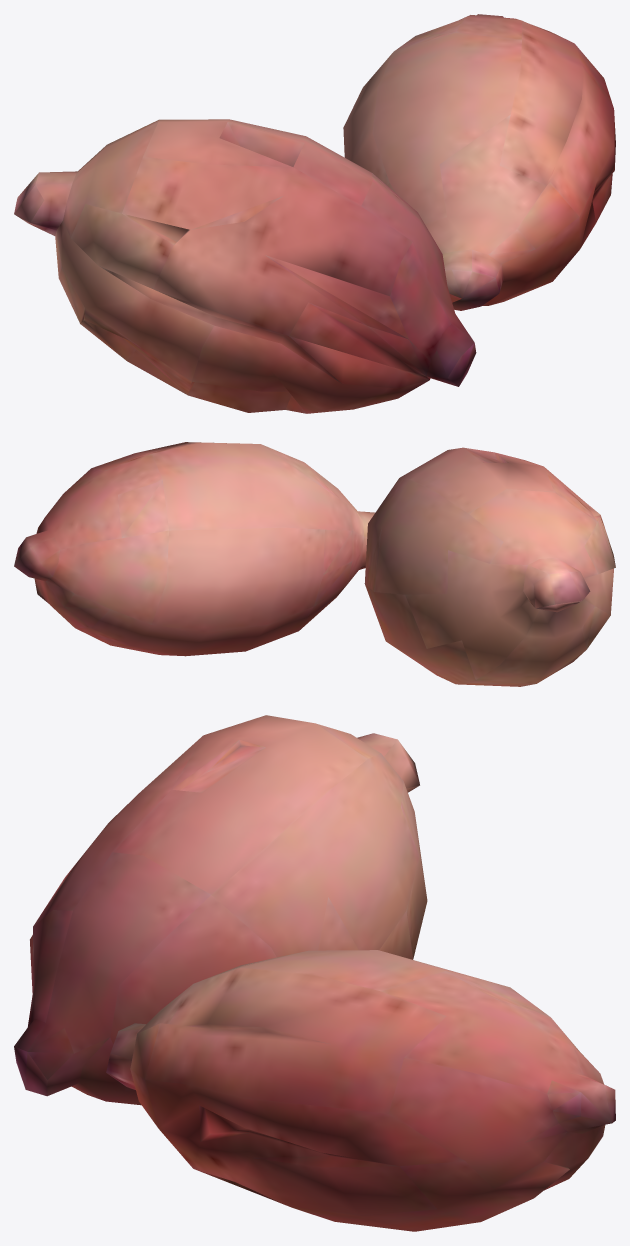
The model's file is sweet-potatoes.glb.
The picture shows the model from 3 angles, top to bottom: view 1: azimuth 30°, elevation 25°; view 2: azimuth 150°, elevation 25°; view 3: azimuth 270°, elevation 25°; orthographic projection. The views are drawn at different scales.
Visible parts, largest first — view 1: Sweet Potatoes; view 2: Sweet Potatoes; view 3: Sweet Potatoes.
Boxes of the visible parts, x1,y1,x2,y2 form: Sweet Potatoes: [14, 14, 615, 413]; Sweet Potatoes: [14, 442, 615, 686]; Sweet Potatoes: [14, 715, 615, 1231].
Bounding box in the file's own units: 2.55 × 1.09 × 1.86.
1 material, 1 textured.
